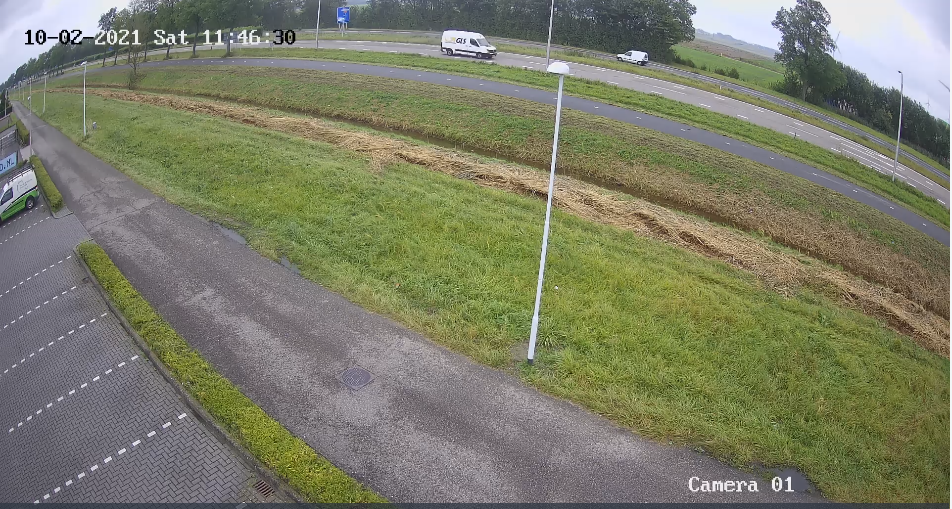werkbus: (432, 22, 506, 67), (614, 45, 659, 70)
